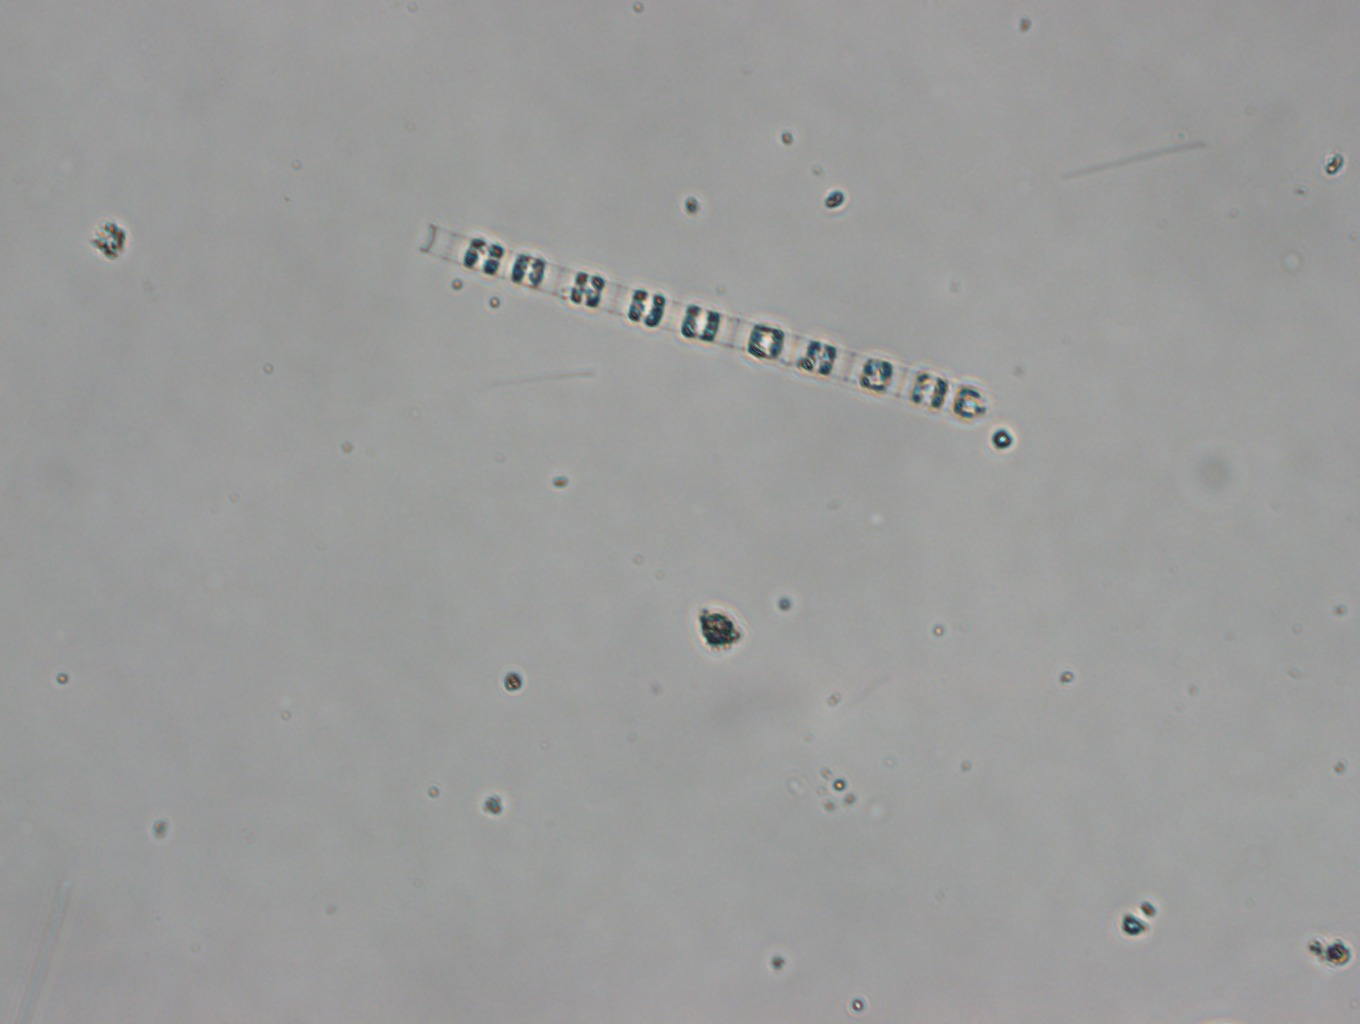skeletonema: (409, 226, 986, 423)
